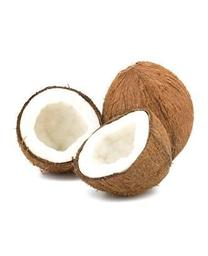coconut: (102, 62, 194, 163), (76, 109, 172, 199), (14, 87, 105, 174)
